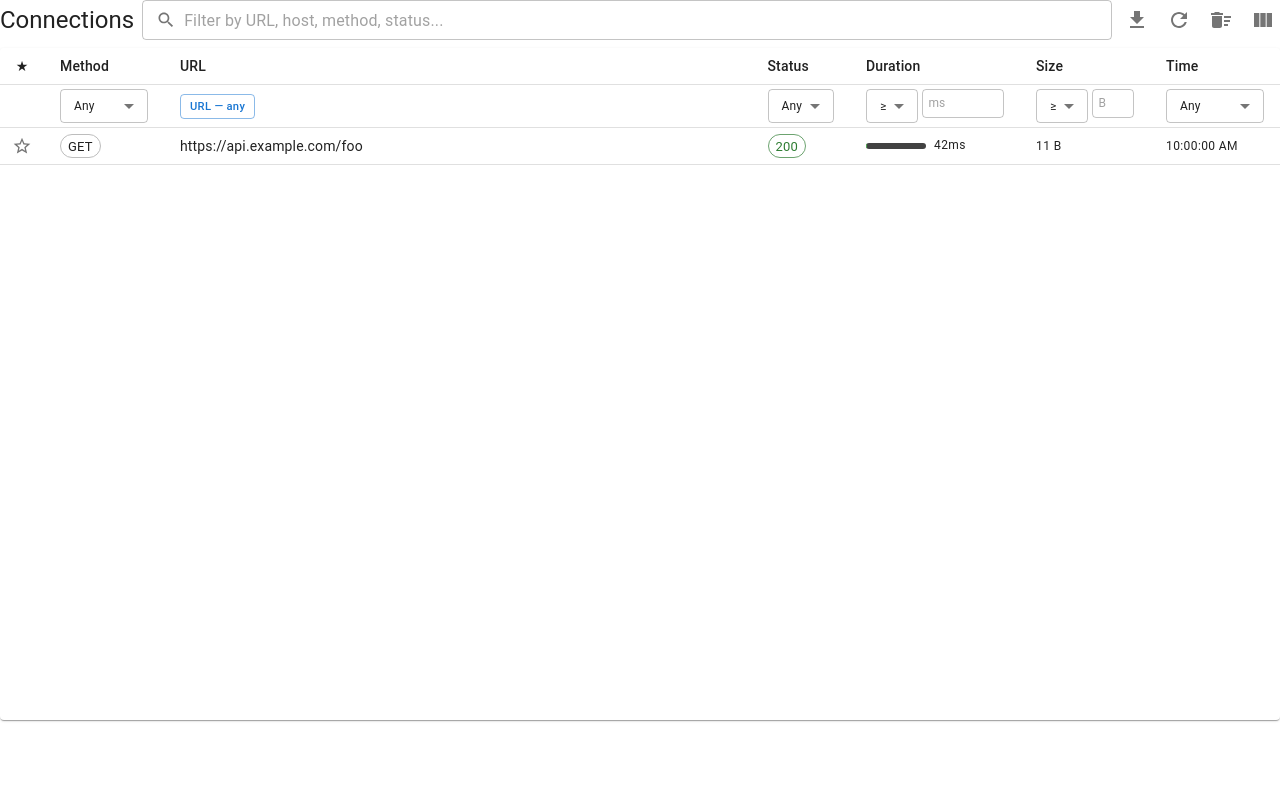
Test: ConnectionsPage — formatters › does not show a Format button for plain text bodies
Step 1. Click the text "https://api.example.com/foo" → (458,147), box left=164, top=128, right=752, bottom=165
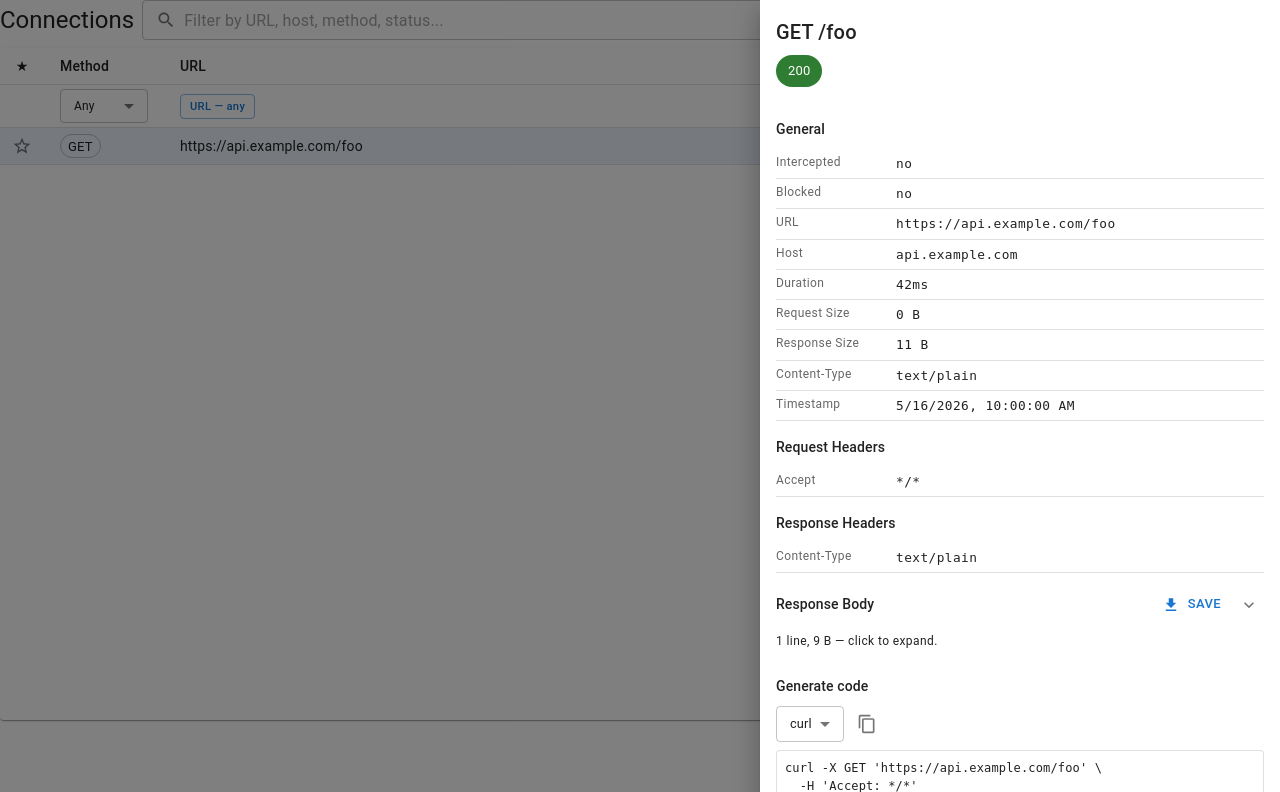
# Expand the response body card (default-collapsed for the new feature).
Step 2. Click the button with test id "response-body-toggle" → (1249,605), box left=1234, top=590, right=1264, bottom=620
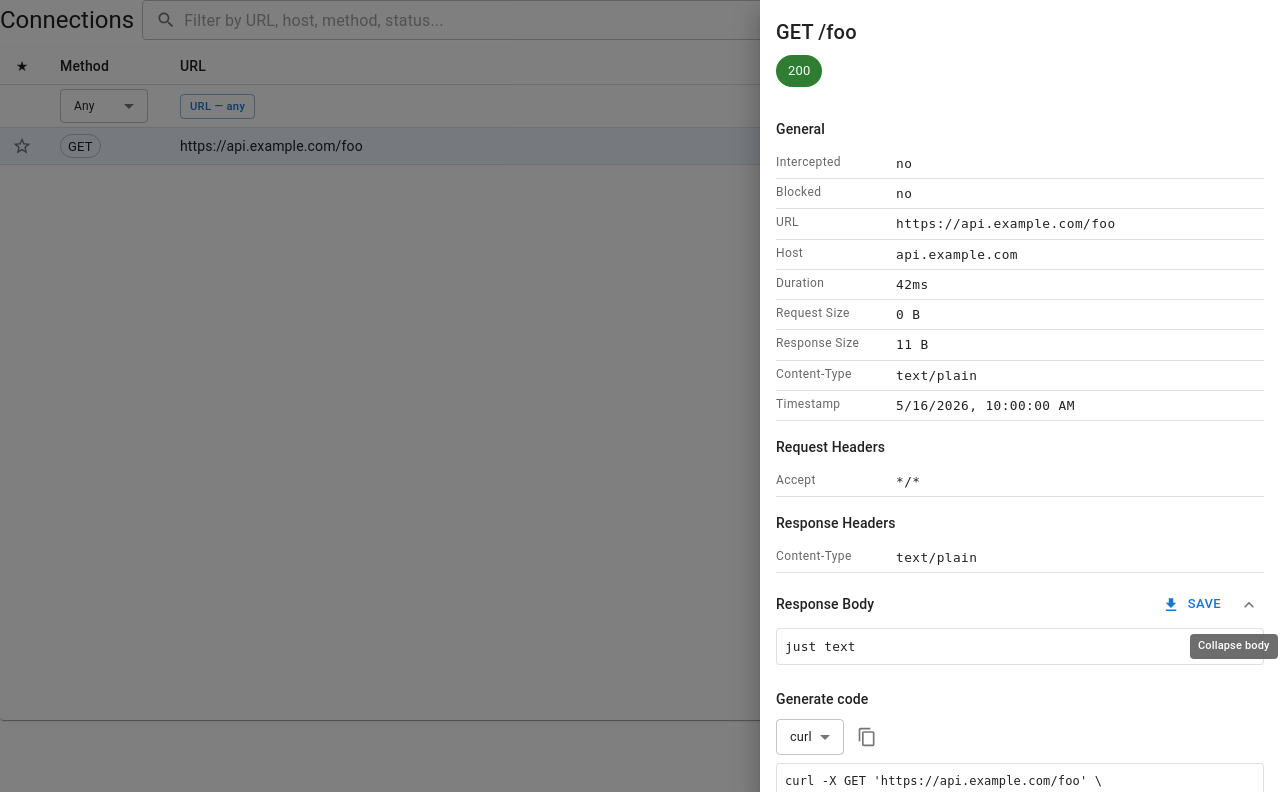
Expected: the text "just text" is shown, left=785, top=639, right=856, bottom=654
